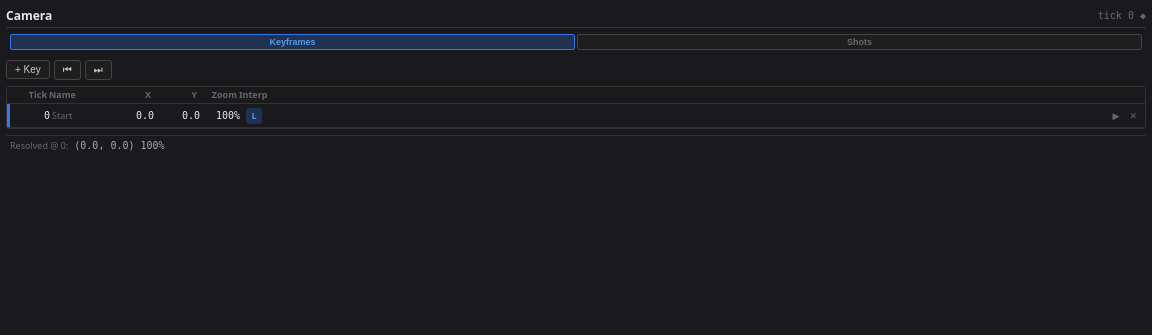
CameraKeyframePanel › editor shows Name field and Delete button
Click to select
Click the element with class "camkf-row" at (576, 116), box [7,104,1145,128]
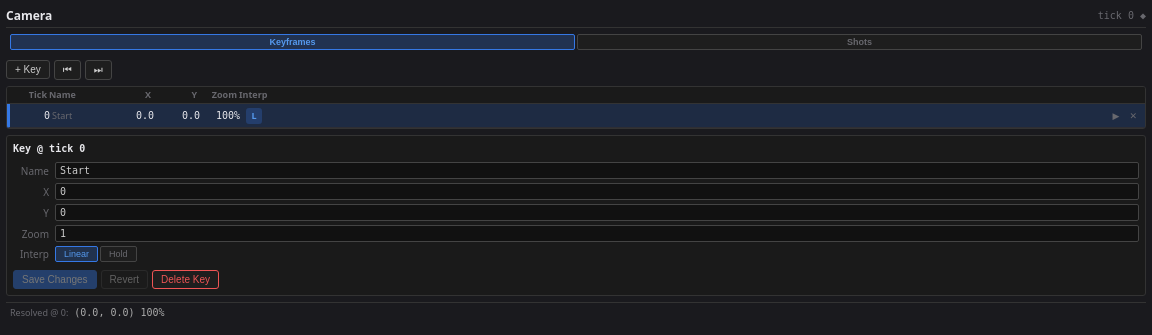
Check: the text "Key @ tick 0" is shown, box [13,143,85,154]
Check: the field with placeholder "(unnamed)" is shown, box [55,162,1139,179]
Check: the button "Delete Key" is shown, box [152,270,219,289]
